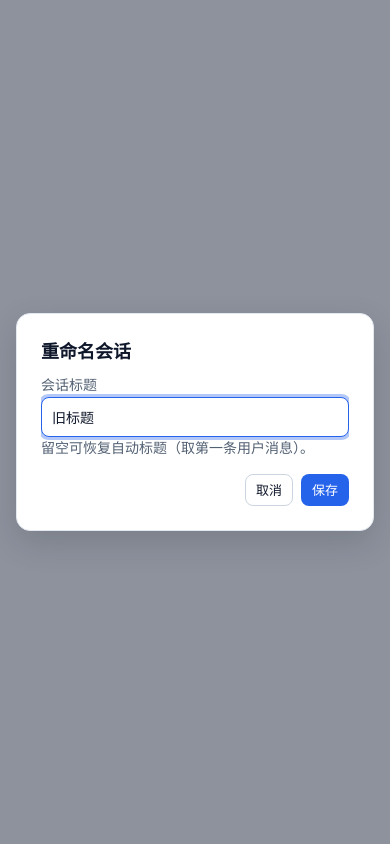
Test: RenameConversationDialog › shows an error and stays open when saving fails
Step 1. Click the button with test id "rename-conversation-confirm" → (325, 490), box x1=301 y1=474 x2=349 y2=506
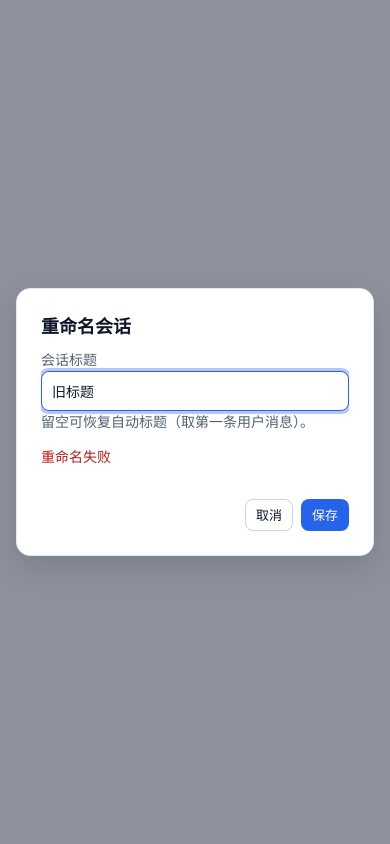
Check: the text "重命名失败" is shown, box x1=41 y1=447 x2=111 y2=466
